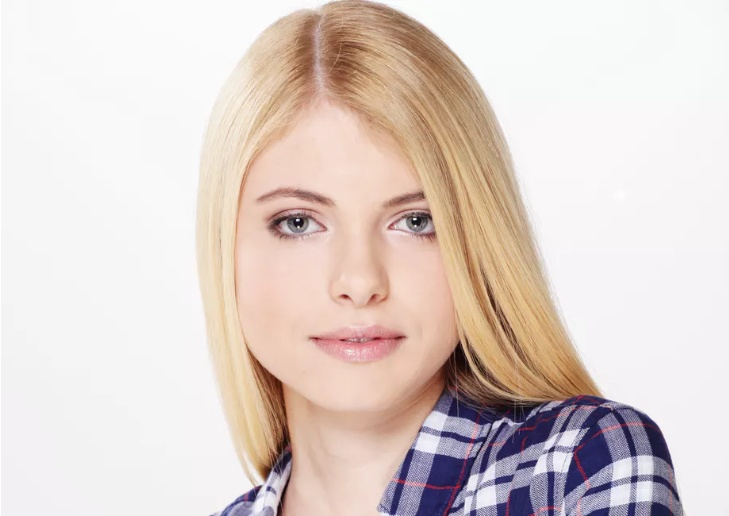face: (236, 103, 466, 406)
